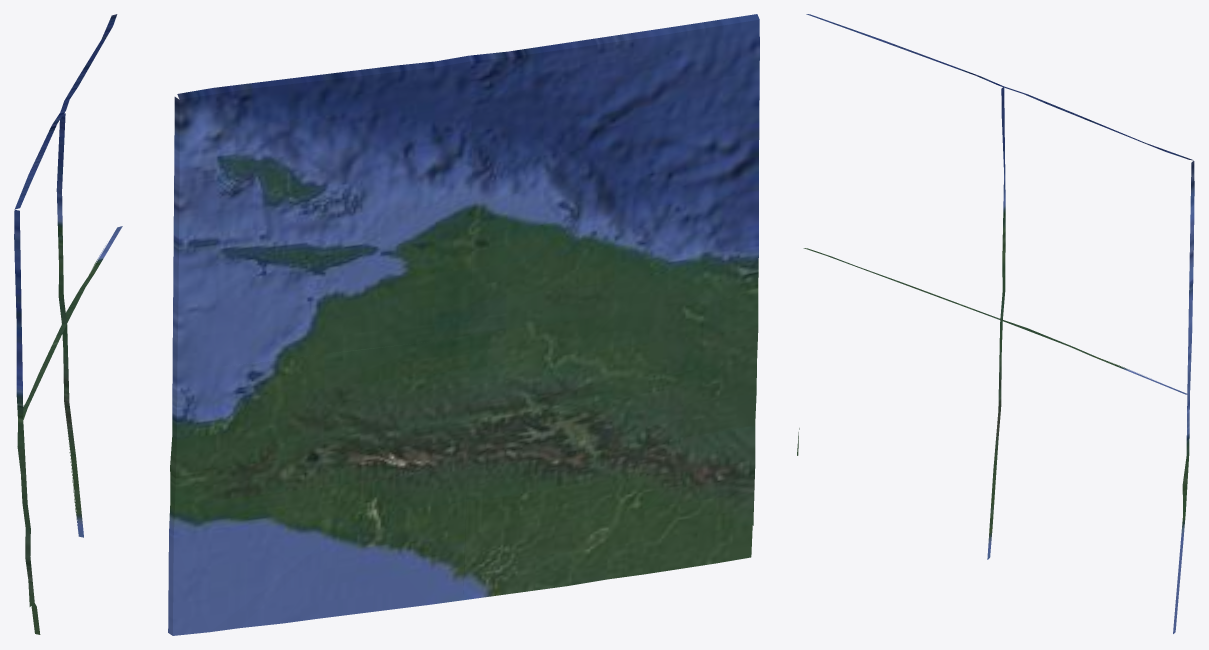
3 renders of one model, left to right at view 1: azimuth 30°, elevation 25°; view 2: azimuth 150°, elevation 25°; view 3: azimuth 270°, elevation 25°, orthographic. The views are drawn at different scales.
Size of the model in its own units: 448400 by 628323 by 493282.
1 material, 1 textured.
